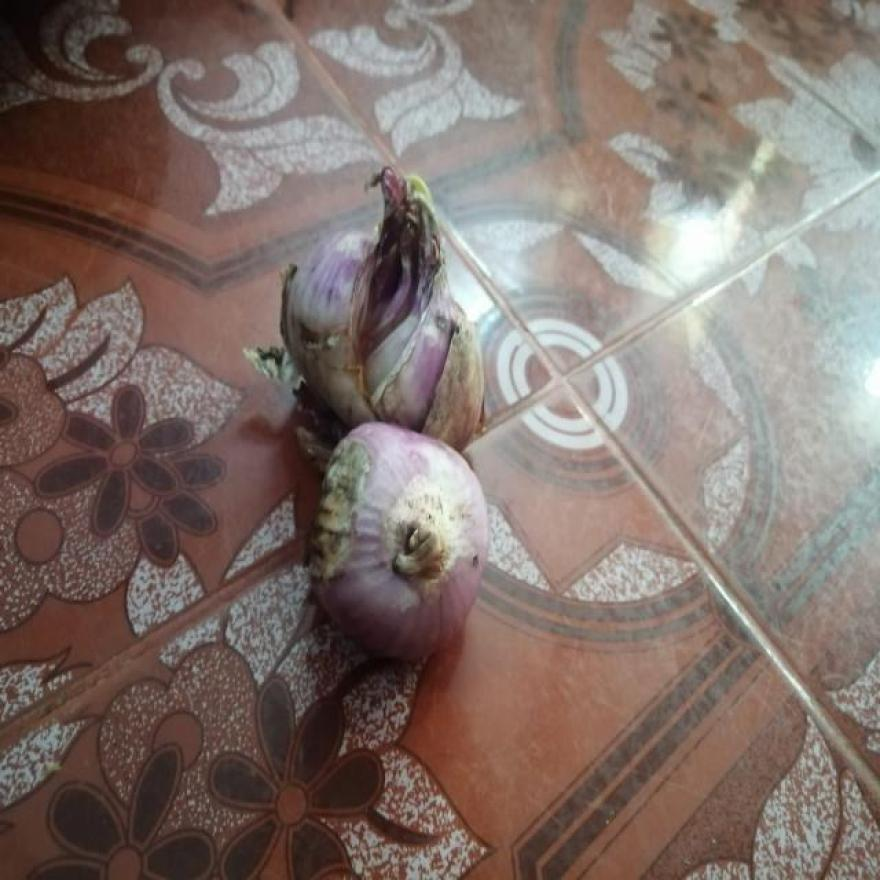Rotten: (357, 294, 416, 384), (324, 468, 351, 553)
Sprouted: (388, 172, 433, 247)
